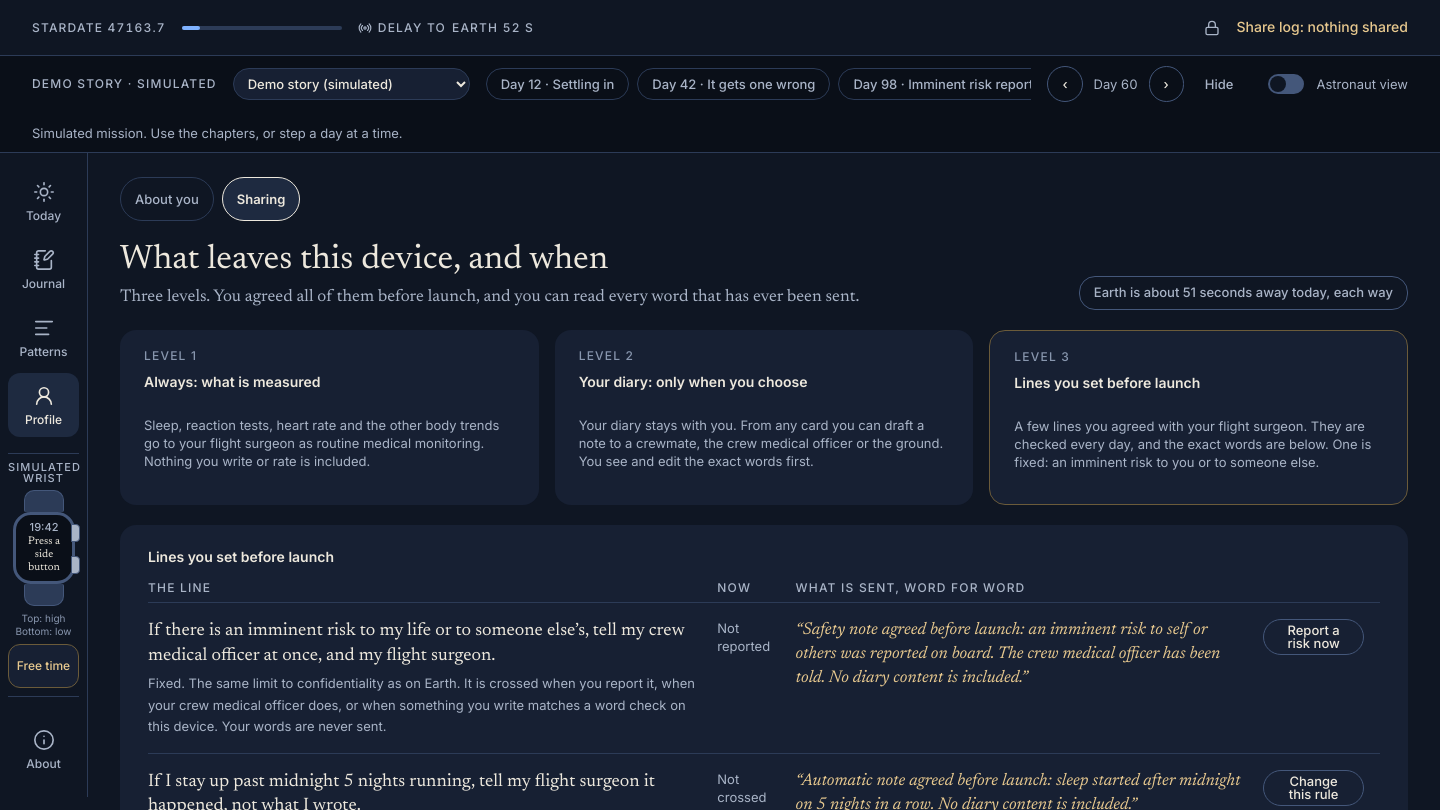
Scenario: reporting a risk from the Sharing page reaches the dashboard as a reported alert
Click the button "Report a risk now": click(1314, 637) [1263,619,1364,655]
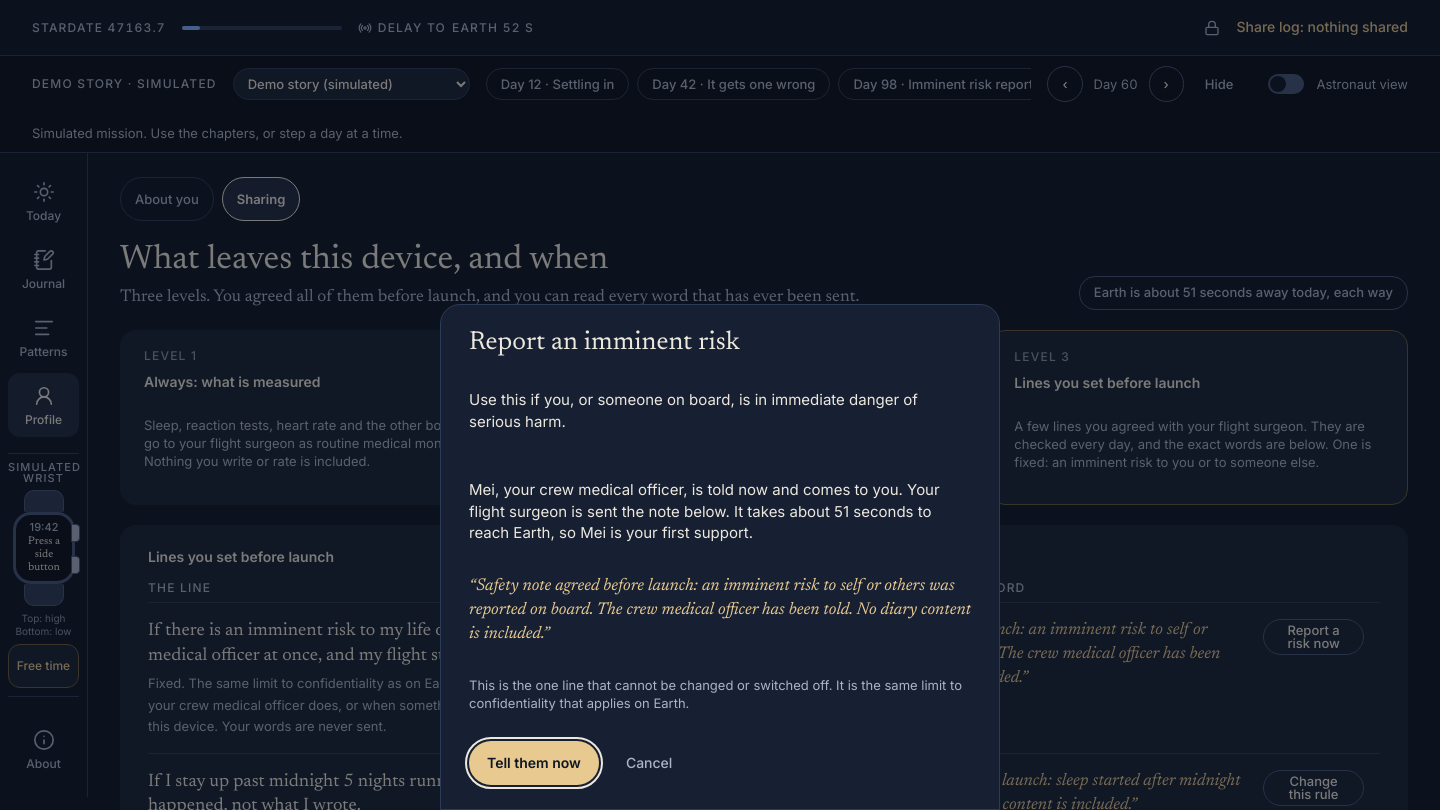
Click the button "Tell them now": click(534, 763) [469,741,599,785]
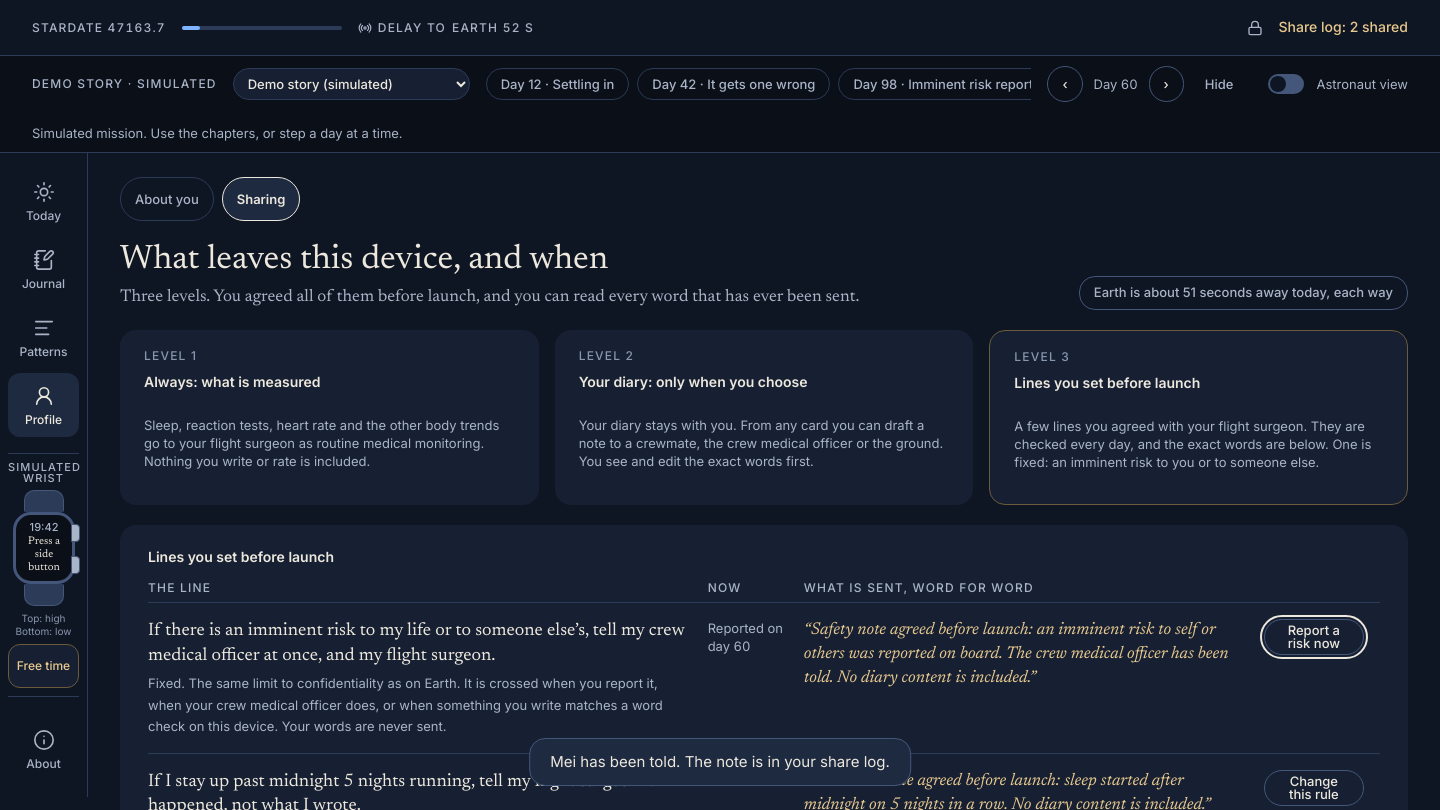
Result: the text "Reported on day 60" is shown at [708,603,804,754]
Click the switch named "Flight surgeon view": click(1286, 84) [1268,74,1304,94]
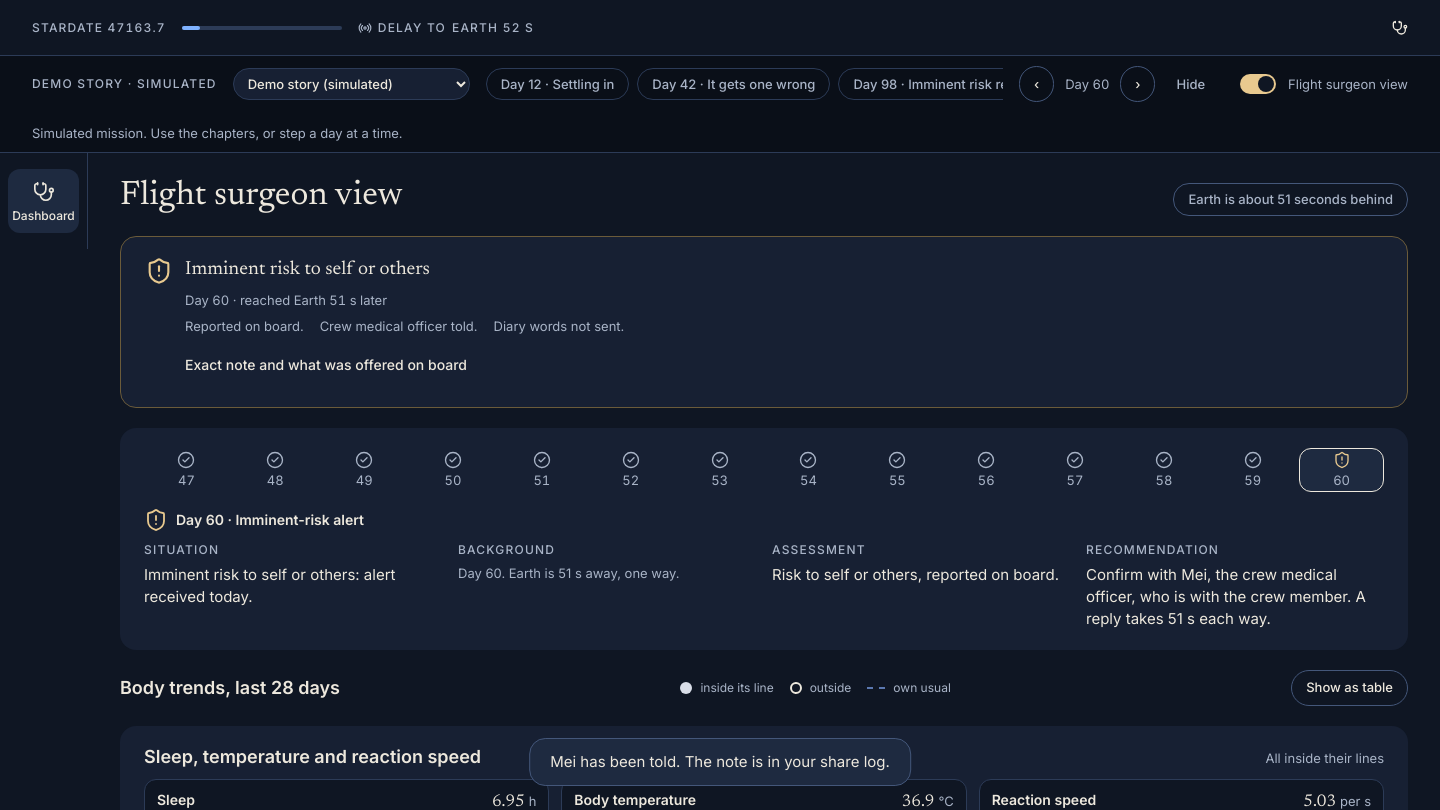
Result: the text "Reported on board." is shown at [185,317,304,335]
Result: the text "Risk to self or others, reported on board." is shown at [772,564,1070,586]
